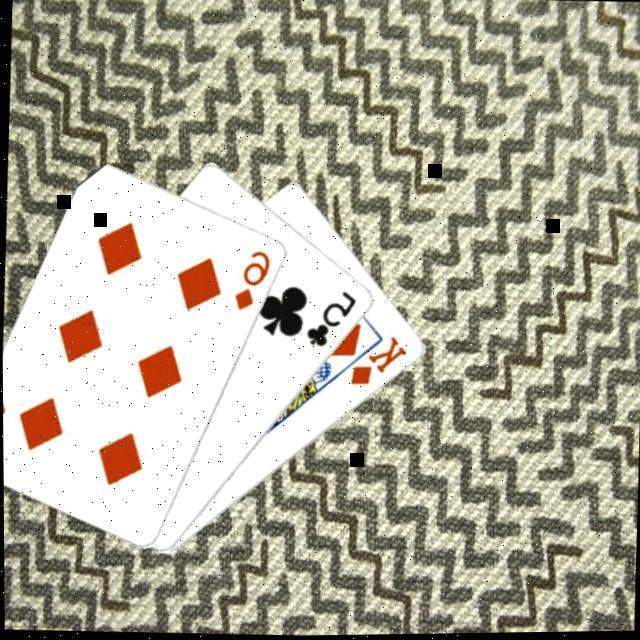5C: (302, 288, 360, 354)
6D: (230, 248, 274, 316), (2, 395, 9, 461)
KD: (346, 334, 410, 393)
